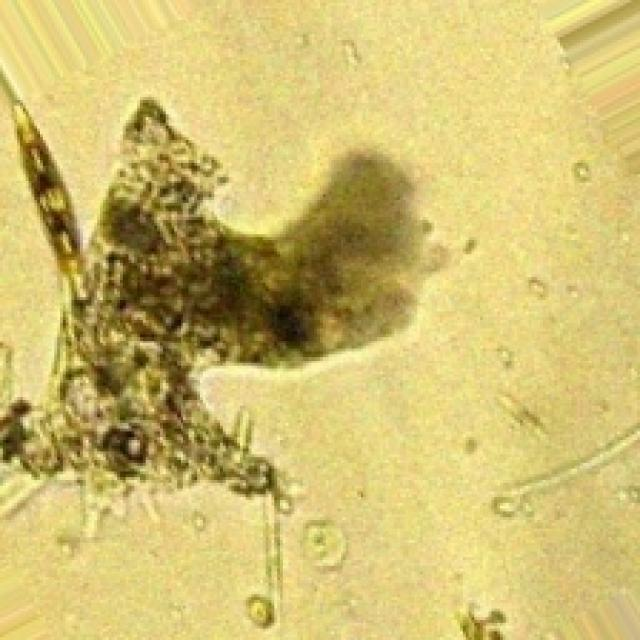Amoeba: (0, 51, 464, 616)
